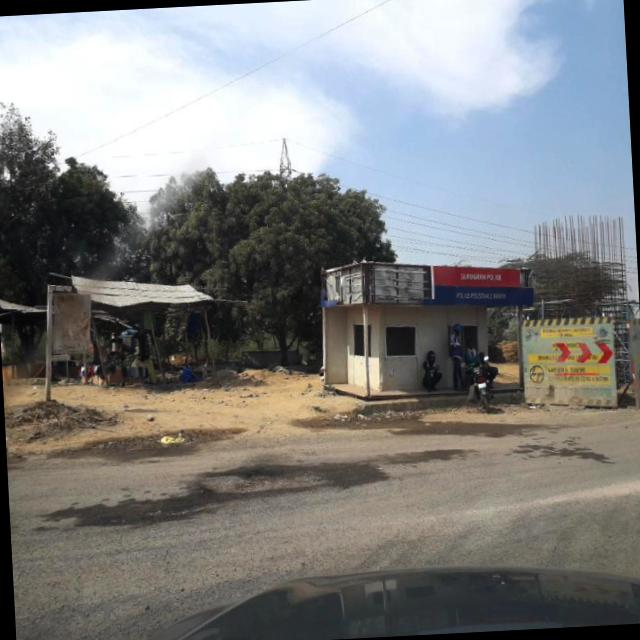pothole: (100, 456, 346, 521)
